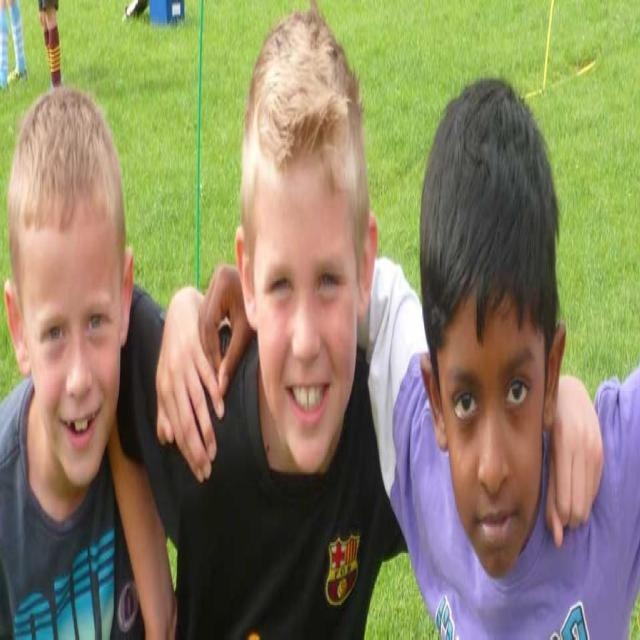Face: (249, 120, 370, 469), (432, 242, 551, 583), (17, 154, 129, 500)
